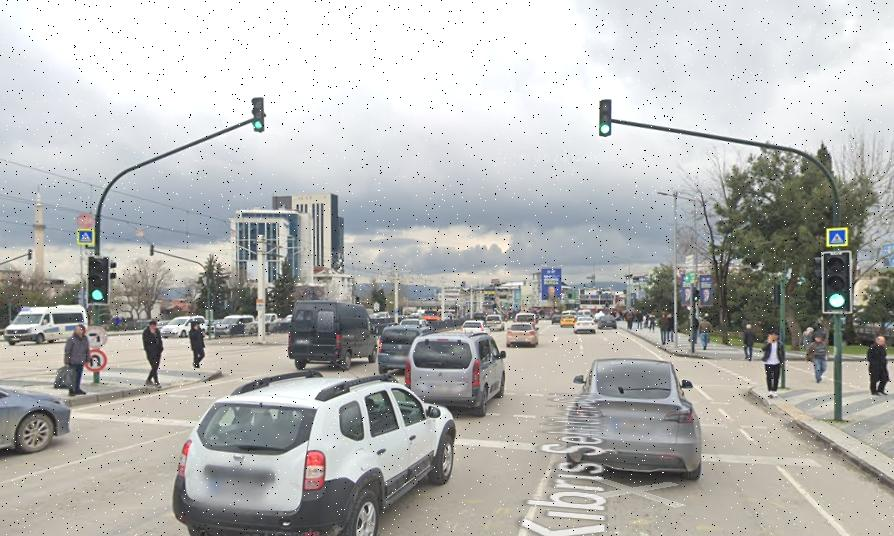greenlight: (822, 250, 850, 313), (88, 256, 109, 304), (600, 99, 613, 138), (253, 96, 266, 133)
